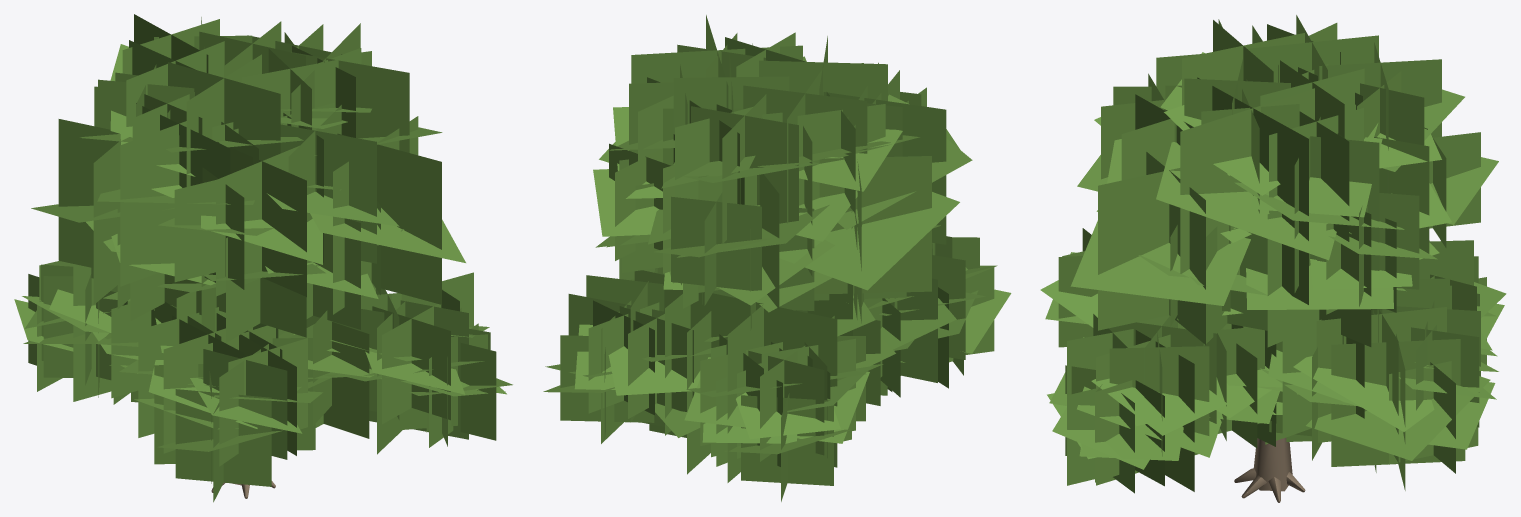
The model's file is pommier_3_loin.glb.
The picture shows the model from 3 angles, left to right: view 1: azimuth 30°, elevation 25°; view 2: azimuth 150°, elevation 25°; view 3: azimuth 270°, elevation 25°; orthographic projection. The views are drawn at different scales.
Parts seen in each view (by area): view 1: Pommier_T3_Leger_Loin; view 2: Pommier_T3_Leger_Loin; view 3: Pommier_T3_Leger_Loin.
Boxes of the visible parts, x1,y1,x2,y2 form: Pommier_T3_Leger_Loin: (14,14,512,502); Pommier_T3_Leger_Loin: (543,15,1011,501); Pommier_T3_Leger_Loin: (1040,15,1506,502).
Size of the model in its own units: 7.12 by 7.77 by 7.67.
